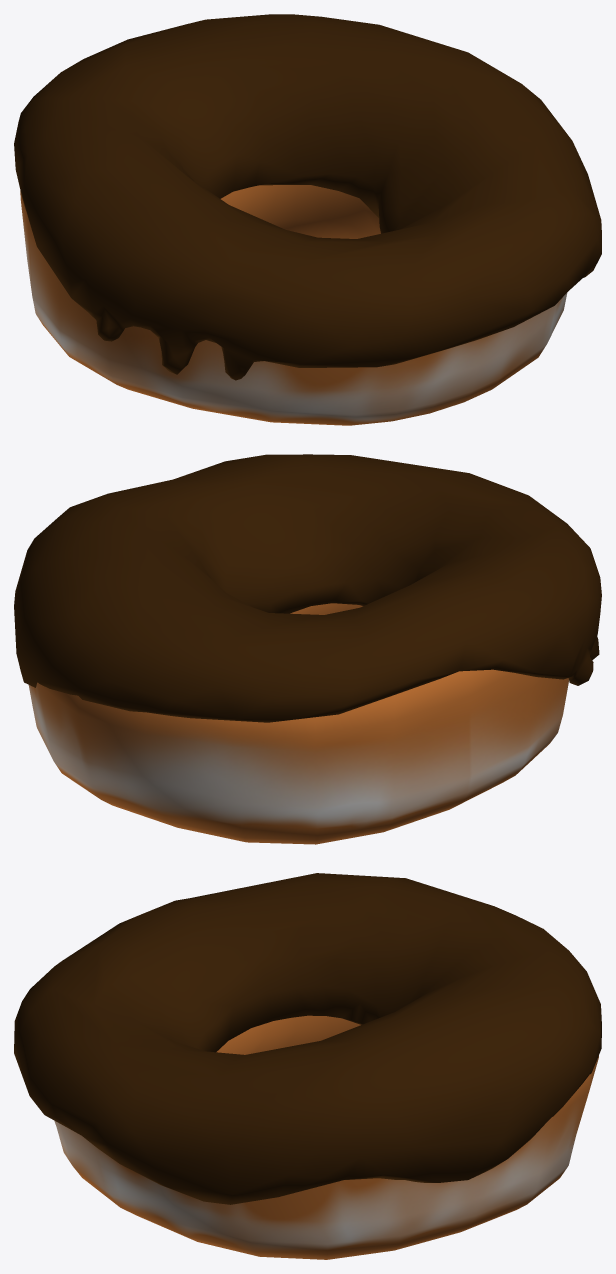
File: lighdonut.gltf
3 views of the same model, one above another, from view 1: azimuth 30°, elevation 25°; view 2: azimuth 150°, elevation 25°; view 3: azimuth 270°, elevation 25° (orthographic). The views are drawn at different scales.
Visible parts, largest first — view 1: Icing.001, Torus.004; view 2: Icing.001, Torus.004; view 3: Icing.001, Torus.004.
Part boxes in pixels (x1,y1,x2,y2): Icing.001: [14, 14, 601, 380]; Torus.004: [20, 185, 567, 425]; Icing.001: [14, 454, 601, 722]; Torus.004: [28, 603, 568, 844]; Icing.001: [14, 873, 601, 1204]; Torus.004: [54, 1015, 598, 1259].
Bounding box in the file's own units: 0.2856 × 0.1233 × 0.3082.
2 materials, 1 textured.
